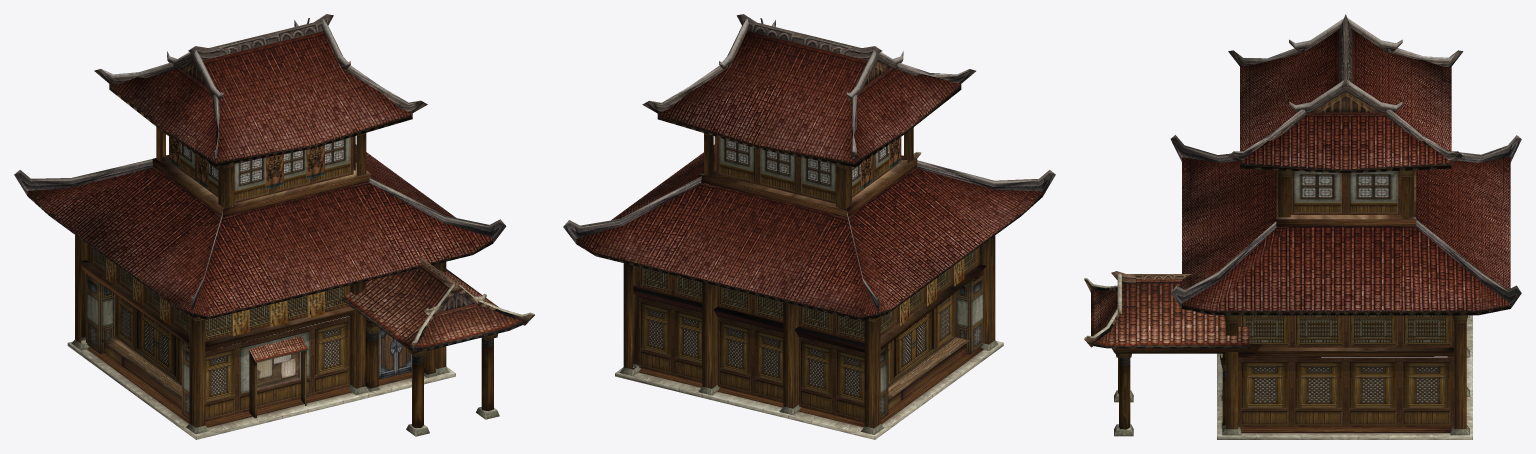
Rendered from a1-011-workhouse_lod_01.fbx.
The picture shows the model from 3 angles, left to right: view 1: azimuth 30°, elevation 25°; view 2: azimuth 150°, elevation 25°; view 3: azimuth 270°, elevation 25°; orthographic projection.
Parts seen in each view (by area): view 1: a1-011-workhouse-01, a1-011-workhouse-02, a1-011-workhouse-03; view 2: a1-011-workhouse-01, a1-011-workhouse-02, a1-011-workhouse-03; view 3: a1-011-workhouse-01, a1-011-workhouse-02, a1-011-workhouse-03.
Part boxes in pixels (x1,y1,x2,y2): a1-011-workhouse-01: [14, 14, 506, 436]; a1-011-workhouse-02: [86, 136, 411, 421]; a1-011-workhouse-03: [67, 155, 534, 439]; a1-011-workhouse-01: [563, 14, 1055, 434]; a1-011-workhouse-02: [637, 136, 983, 422]; a1-011-workhouse-03: [615, 152, 1003, 439]; a1-011-workhouse-01: [1114, 14, 1521, 436]; a1-011-workhouse-02: [1238, 171, 1453, 427]; a1-011-workhouse-03: [1084, 170, 1472, 439].
Bounding box in the file's own units: 13.51 × 13.51 × 16.22.
